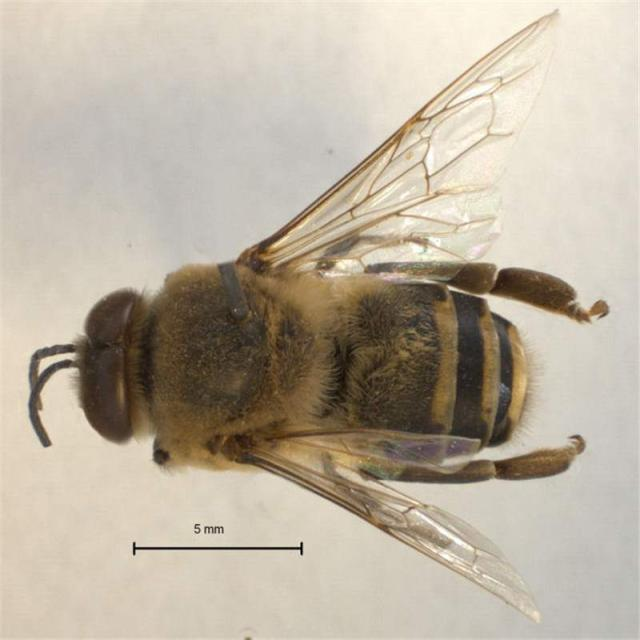Meliponula: (39, 0, 616, 624)
